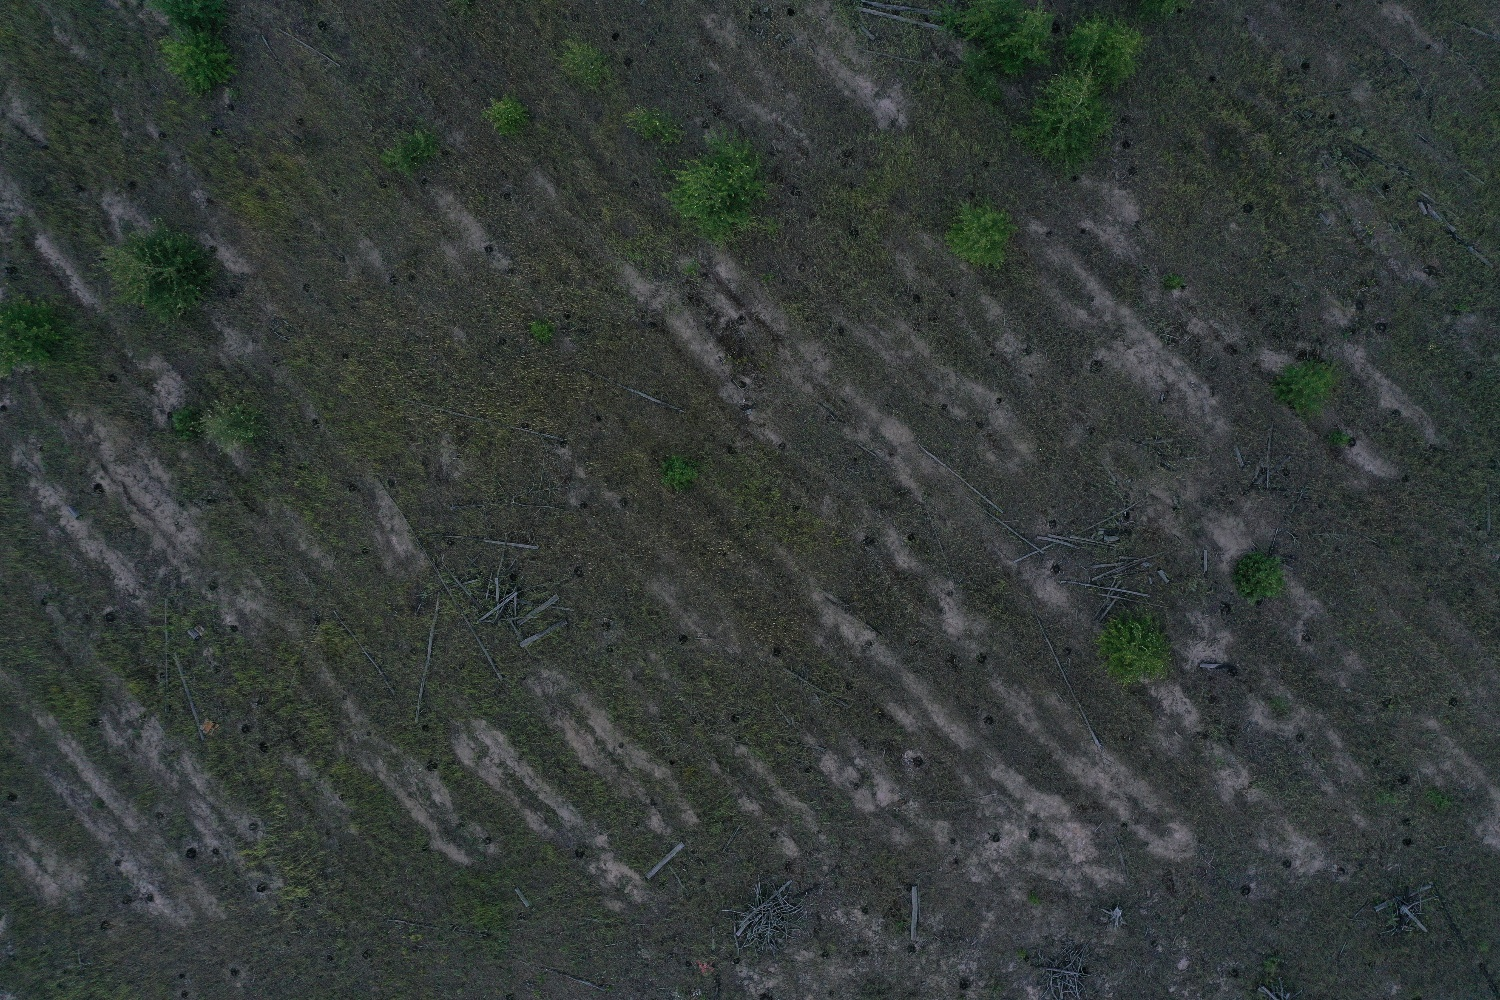branches: (725, 874, 804, 951), (1035, 937, 1092, 1000), (1374, 881, 1434, 935)
